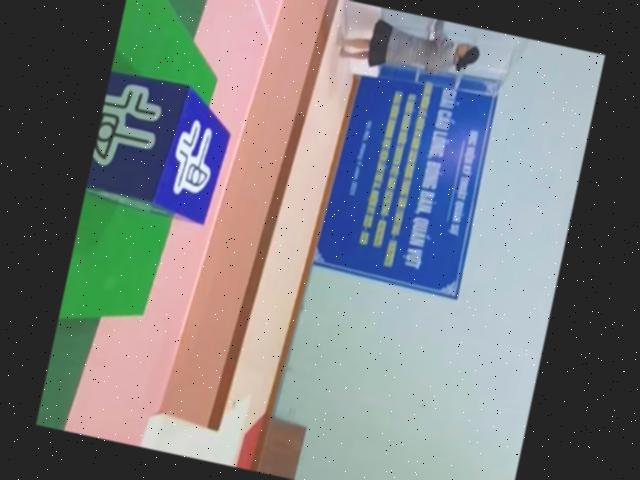R2 Real Blue: (84, 67, 237, 226)
